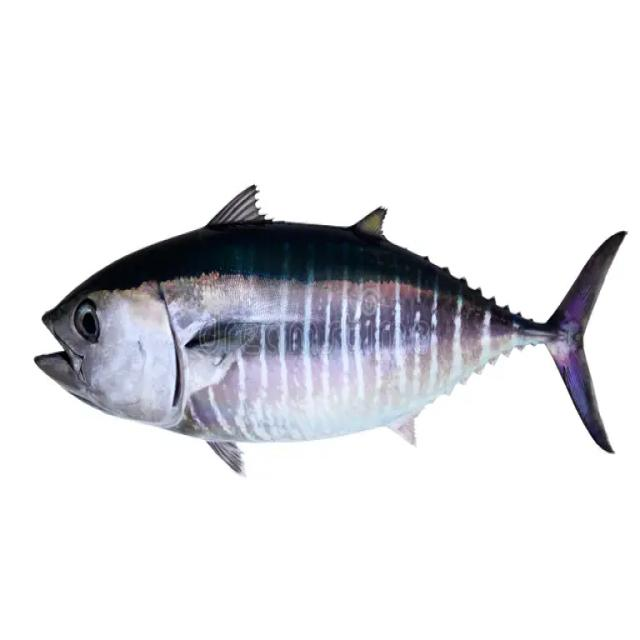Tuna: (33, 182, 631, 478)
